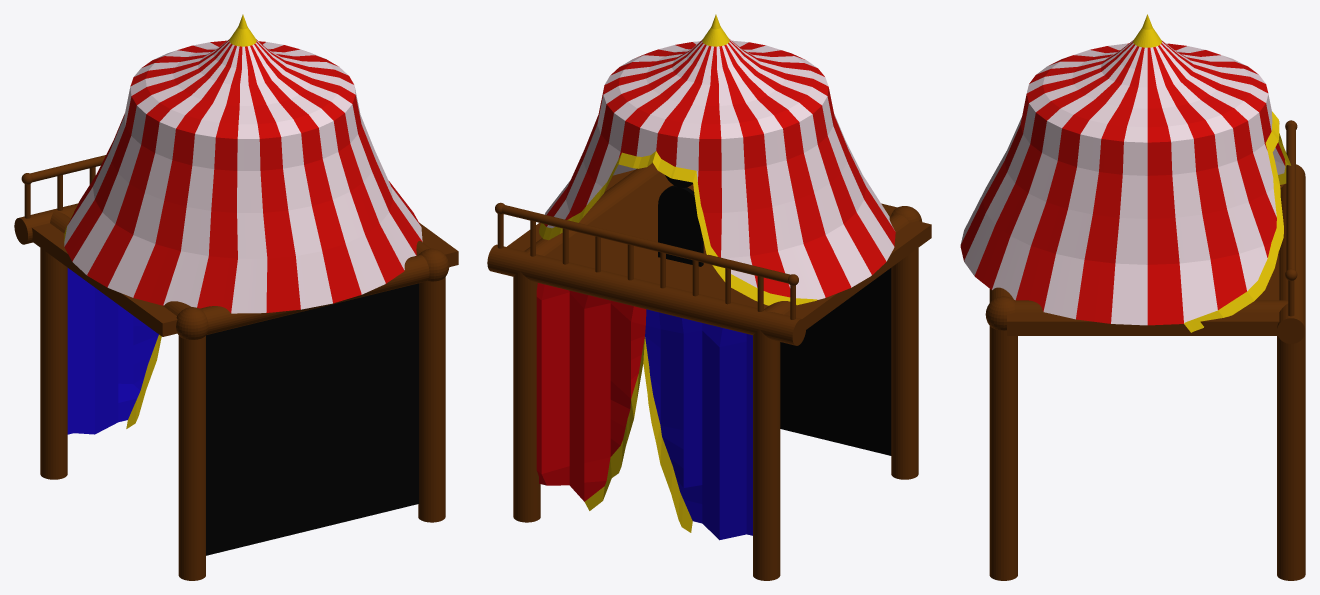
File: JURI.fbx
3 views of the same model, side by side, from view 1: azimuth 30°, elevation 25°; view 2: azimuth 150°, elevation 25°; view 3: azimuth 270°, elevation 25° (orthographic). The views are drawn at different scales.
Visible parts, largest first — view 1: Plane.002, Plane.001, Cylinder.008, Cylinder.007, Cylinder.003, Circle.023, Circle.024, Circle.022, Circle.021, Circle.025, Circle.020, Circle.026 (+19 smaller); view 2: Plane.001, Plane, Plane.002, Cube.001, Cylinder.001, Cylinder.003, Cylinder.008, Cylinder.002, Circle.015, Circle.014, Circle.016, Circle.013 (+22 smaller); view 3: Cylinder.007, Cylinder.002, Circle.012, Circle.033, Circle.032, Circle.011, Circle.031, Circle.010, Circle.030, Cube.001, Circle.029, Circle.009 (+17 smaller).
Part boxes in pixels (bbox=[...]): Plane.002: bbox=[206, 283, 419, 555]; Plane.001: bbox=[67, 268, 158, 434]; Cylinder.008: bbox=[178, 336, 205, 580]; Cylinder.007: bbox=[418, 277, 445, 522]; Cylinder.003: bbox=[40, 248, 67, 479]; Circle.023: bbox=[231, 46, 267, 312]; Circle.024: bbox=[245, 46, 300, 312]; Circle.022: bbox=[197, 46, 242, 312]; Circle.021: bbox=[163, 46, 239, 307]; Circle.025: bbox=[247, 46, 332, 308]; Circle.020: bbox=[133, 45, 236, 304]; Circle.026: bbox=[250, 45, 361, 302]; Plane.001: bbox=[645, 309, 752, 540]; Plane: bbox=[536, 283, 646, 501]; Plane.002: bbox=[780, 268, 891, 455]; Cube.001: bbox=[507, 170, 931, 329]; Cylinder.001: bbox=[487, 244, 806, 345]; Cylinder.003: bbox=[753, 329, 780, 580]; Cylinder.008: bbox=[891, 248, 918, 479]; Cylinder.002: bbox=[513, 271, 540, 522]; Circle.015: bbox=[722, 45, 825, 299]; Circle.014: bbox=[719, 46, 790, 297]; Circle.016: bbox=[724, 45, 850, 296]; Circle.013: bbox=[716, 46, 757, 287]; Cylinder.007: bbox=[989, 326, 1017, 580]; Cylinder.002: bbox=[1277, 331, 1305, 580]; Circle.012: bbox=[1147, 47, 1183, 324]; Circle.033: bbox=[1111, 47, 1147, 324]; Circle.032: bbox=[1076, 47, 1144, 322]; Circle.011: bbox=[1150, 47, 1217, 322]; Circle.031: bbox=[1043, 47, 1141, 318]; Circle.010: bbox=[1153, 47, 1246, 309]; Circle.030: bbox=[1016, 46, 1138, 311]; Cube.001: bbox=[1007, 251, 1279, 335]; Circle.029: bbox=[992, 45, 1136, 300]; Circle.009: bbox=[1156, 46, 1267, 291].
Size of the model in its own units: 524 by 774 by 484.
